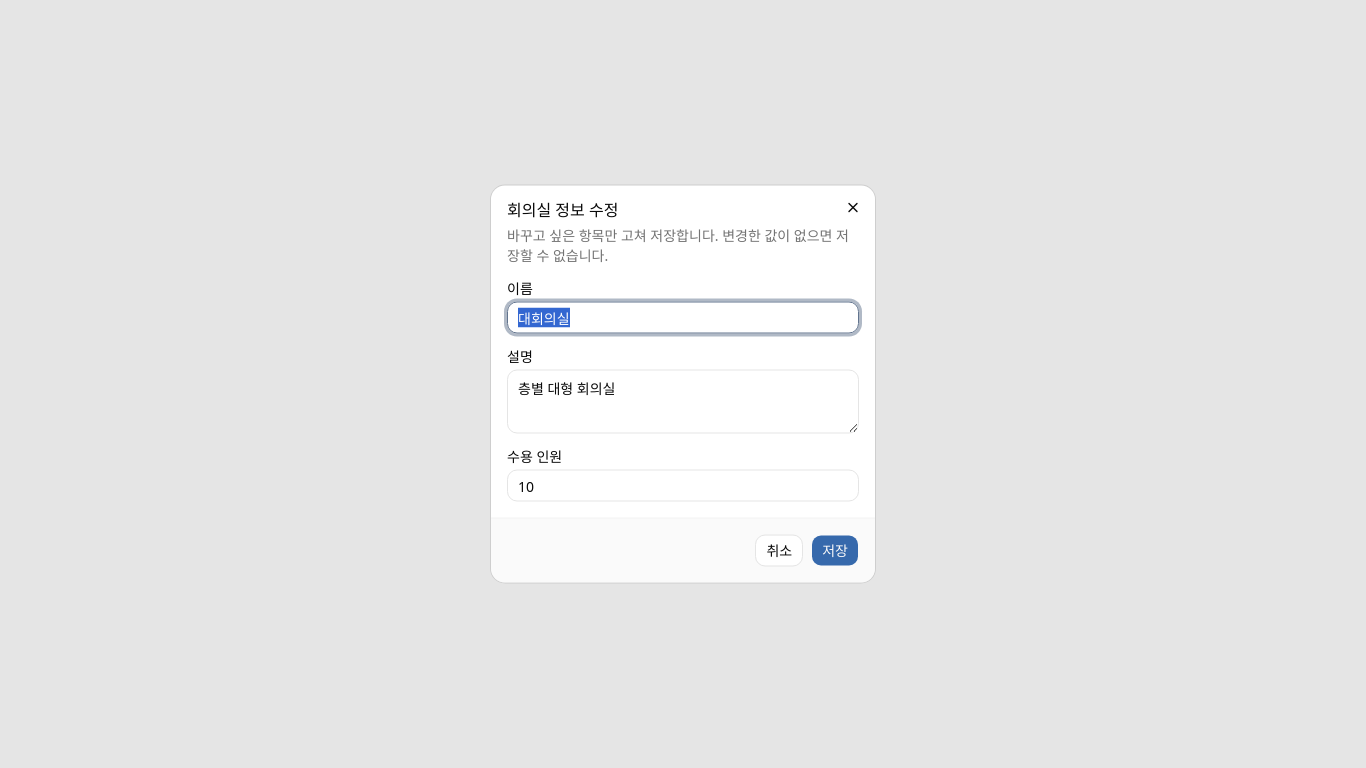
MeetingRoomUpdateDialog - zod 클라 사전검증 › 수용 인원에 0을 입력하면 "수용 인원은 양수여야 합니다" 에러를 노출하고 요청을 보내지 않는다
This screenshot has width=1366, height=768.
Replace the text in the number field labelled "수용 인원" with "0": {"x": 683, "y": 486} top-left (507, 470), bottom-right (859, 502)
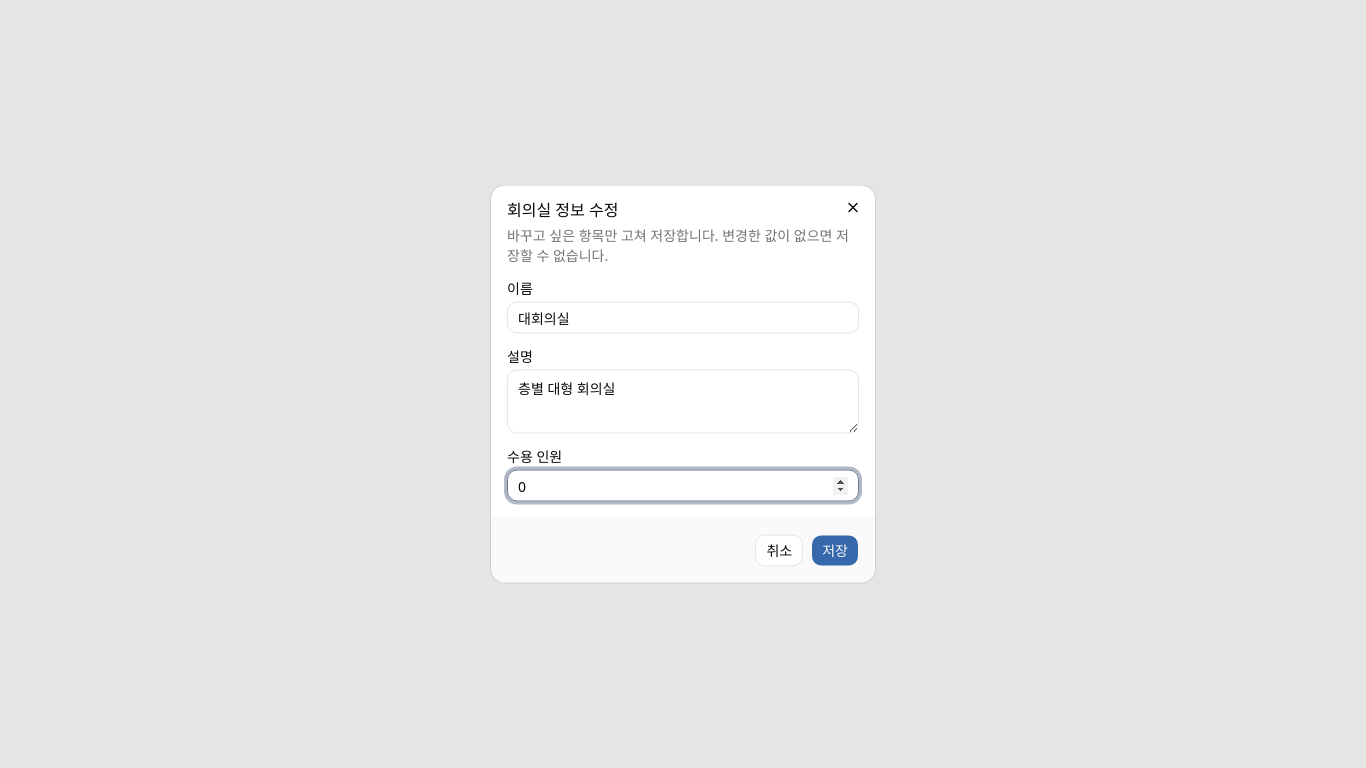
Click the button "저장": {"x": 835, "y": 550} top-left (811, 534), bottom-right (859, 566)
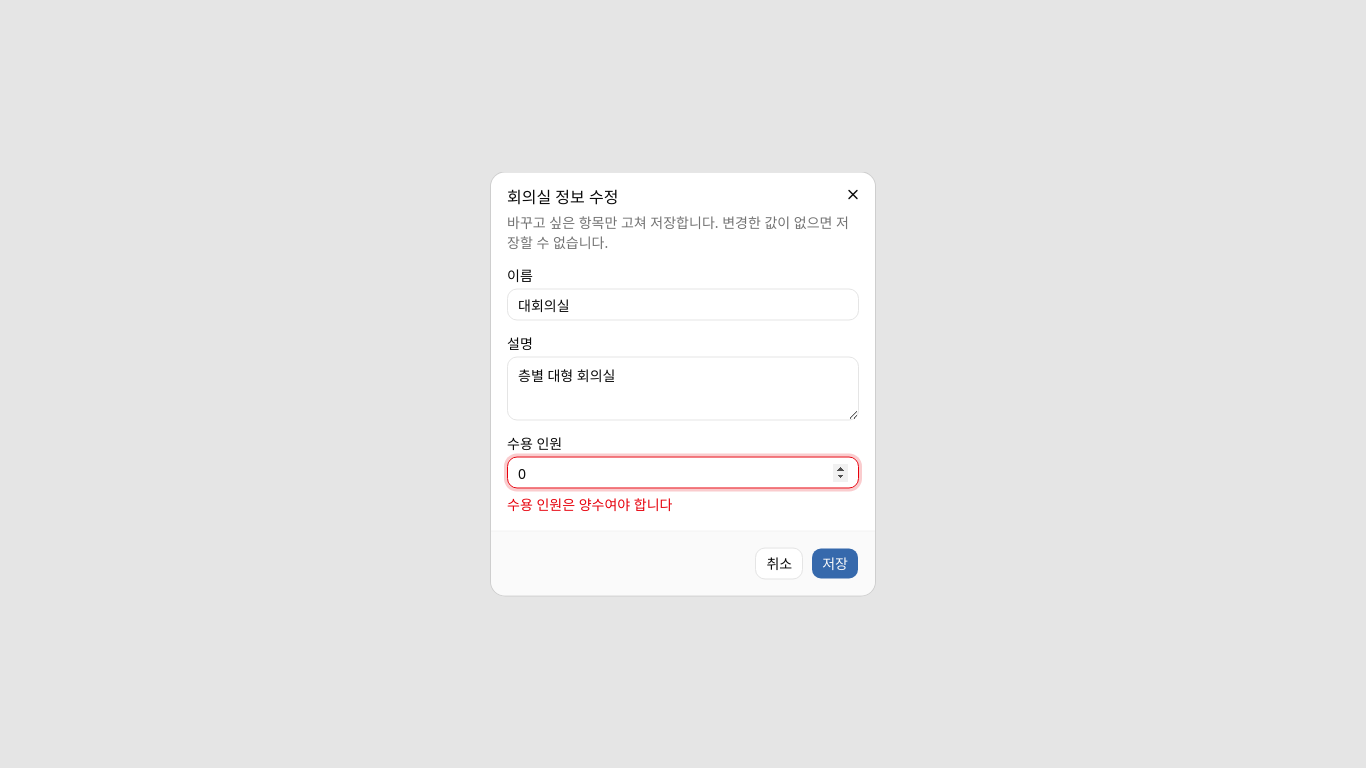
Now the text "수용 인원은 양수여야 합니다" is shown, box top-left (507, 494), bottom-right (672, 514)
